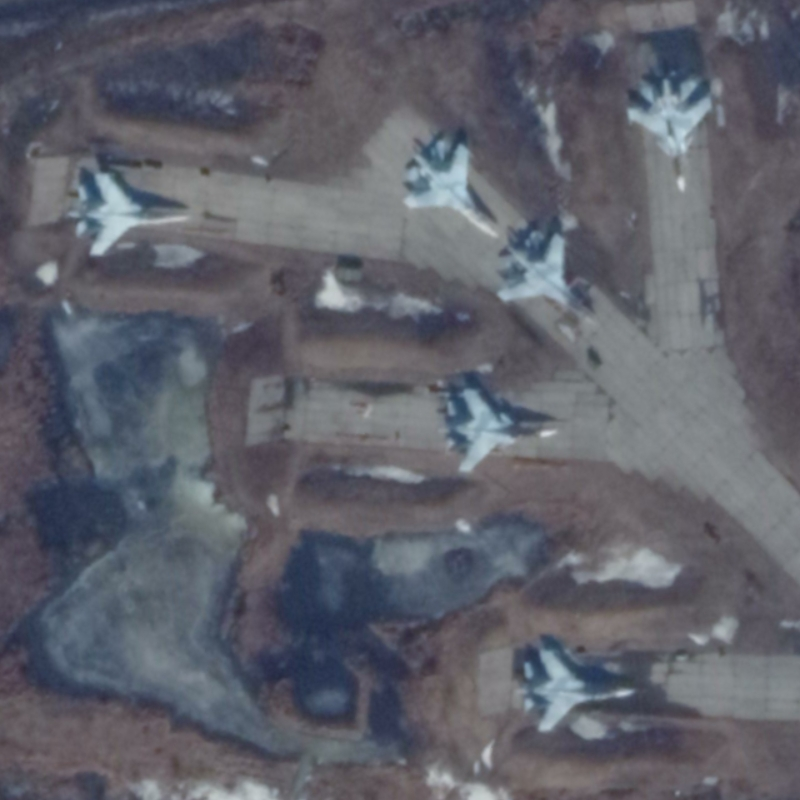A1: (64, 170, 194, 258), (513, 646, 639, 734), (494, 231, 604, 330), (400, 139, 503, 241)
A19: (625, 75, 715, 196), (439, 387, 560, 476)
